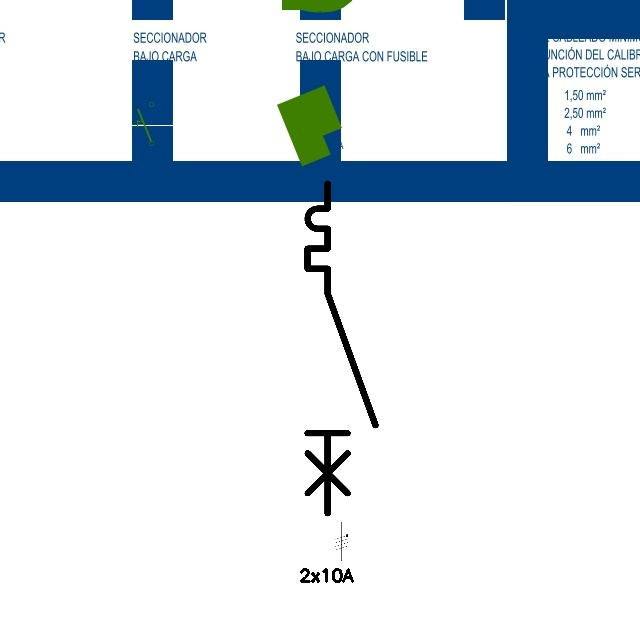interruptor_termomagnetico: (299, 175, 384, 522)
